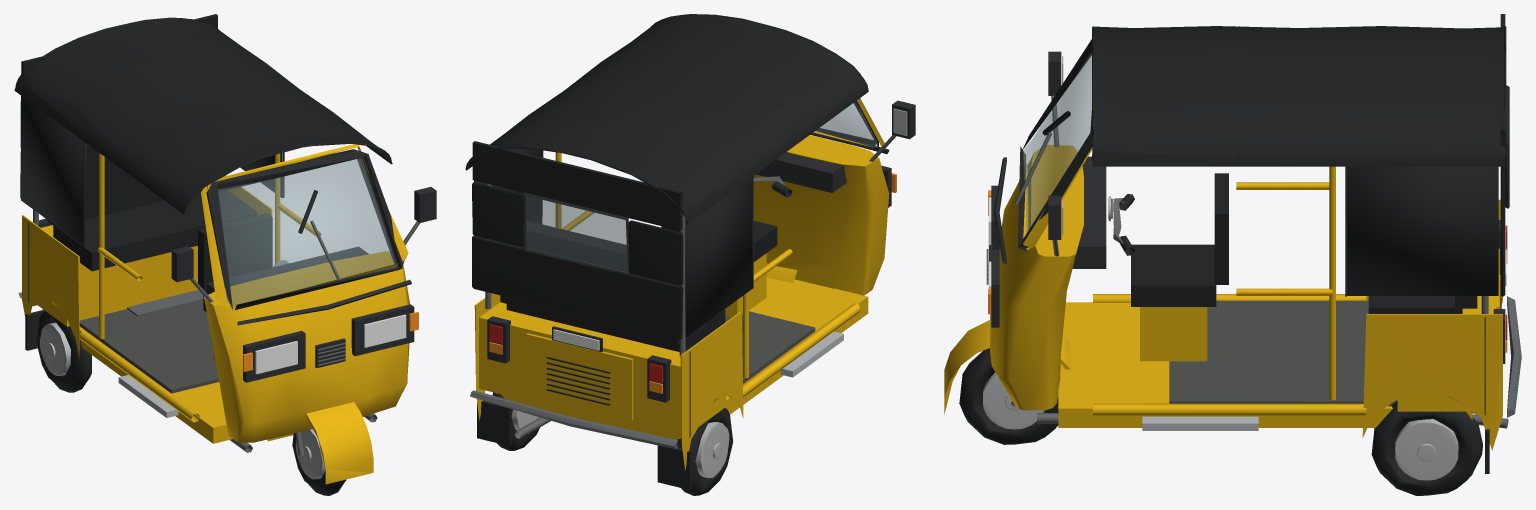
Rendered from keke_lod1.glb.
3 renders of one model, left to right at view 1: azimuth 30°, elevation 25°; view 2: azimuth 150°, elevation 25°; view 3: azimuth 270°, elevation 25°, orthographic. The views are drawn at different scales.
Parts seen in each view (by area): view 1: Body, Fork, Wheel_Rear_Left, Wheel_Front; view 2: Body, Wheel_Rear_Left, Wheel_Rear_Right; view 3: Body, Wheel_Rear_Right, Wheel_Front, Fork.
Boxes of the visible parts, <box> form: Body: <box>14,14,436,452</box>; Fork: <box>267,402,373,484</box>; Wheel_Rear_Left: <box>36,310,91,392</box>; Wheel_Front: <box>292,429,346,495</box>; Body: <box>465,14,915,489</box>; Wheel_Rear_Left: <box>677,407,733,495</box>; Wheel_Rear_Right: <box>492,392,540,450</box>; Body: <box>986,14,1521,473</box>; Wheel_Rear_Right: <box>1371,401,1482,495</box>; Wheel_Front: <box>959,348,1058,444</box>; Fork: <box>944,320,1071,414</box>.
Bounding box in the file's own units: 1.62 × 1.92 × 2.58.
